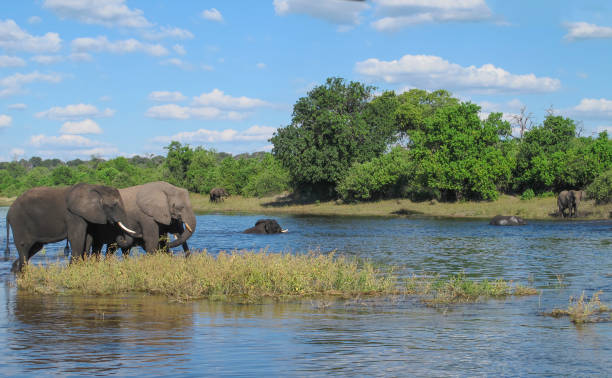africanelephant: (142, 179, 192, 237)
